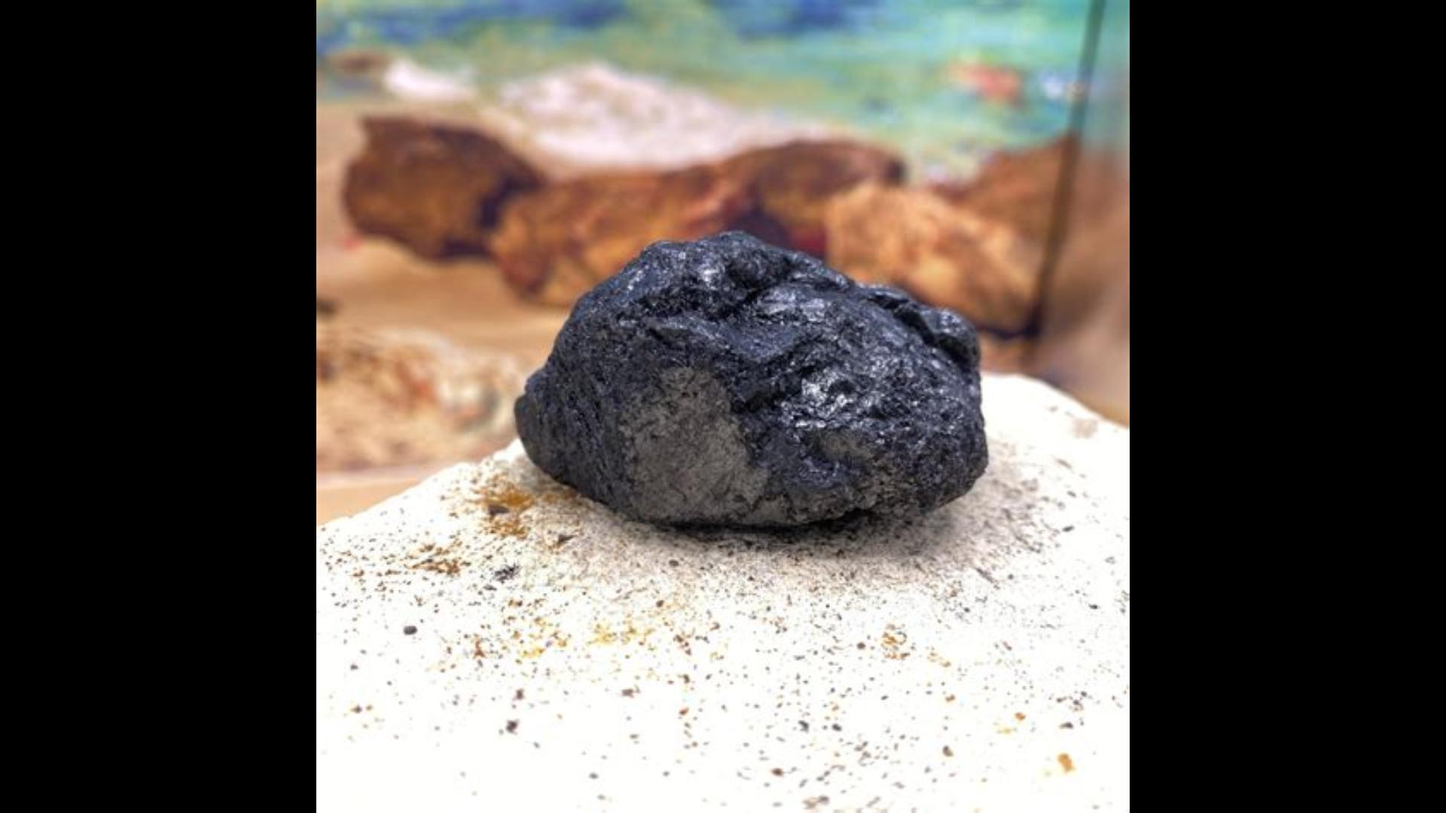rock: (515, 233, 986, 525)
